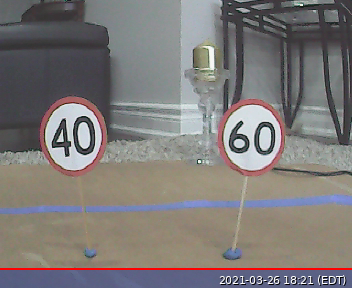Speed Limit 40: (38, 94, 107, 177)
Speed Limit 60: (217, 97, 285, 176)
